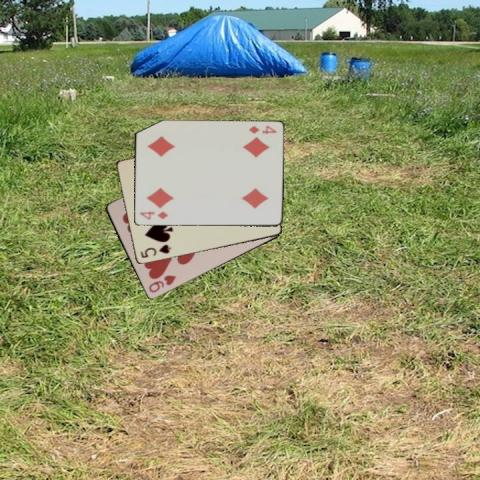4d: (137, 208, 169, 221), (246, 123, 278, 135)
5s: (137, 241, 173, 260)
9h: (146, 273, 178, 294)
